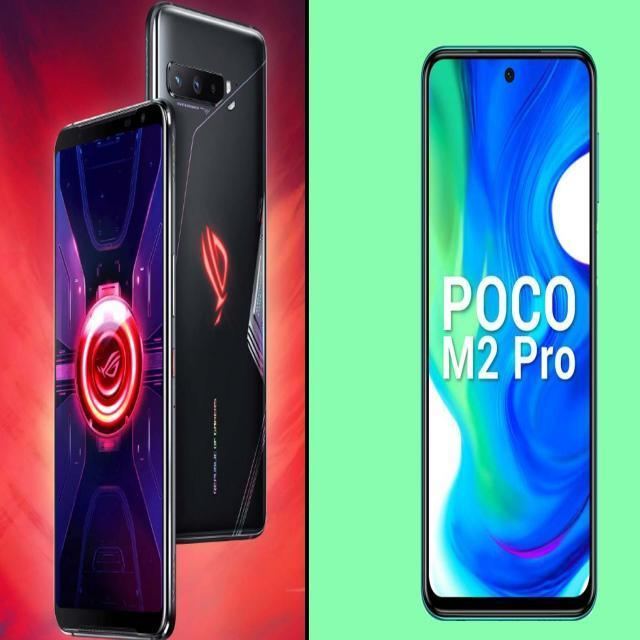Phone: (418, 44, 598, 622), (48, 99, 180, 639), (144, 3, 270, 545)
